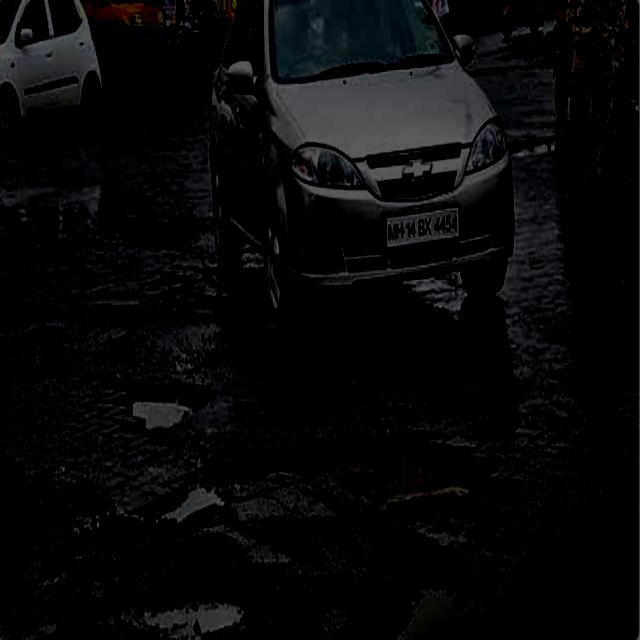Pothole: (138, 420, 553, 534), (363, 519, 640, 640), (112, 583, 260, 640), (113, 370, 214, 439)
